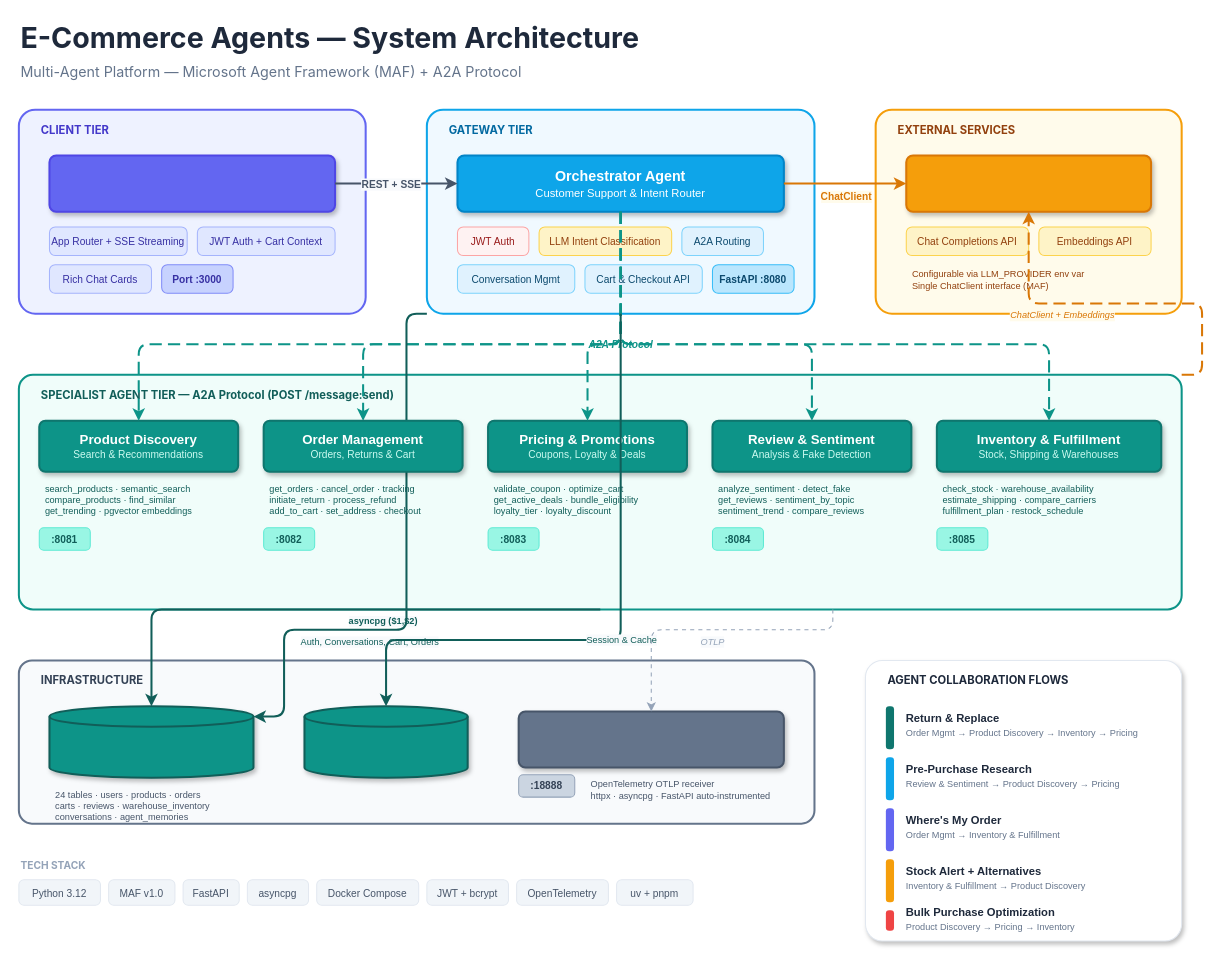
Image size: 1228x966. Some labels were removed from this diagram. The centre of each missing label's shape, as x and y in pixels:
".NET Aspire Dashboard Traces · Logs · Metrics" goes at (651,740).
"Next.js 15 Frontend React 19 + Tailwind CSS 4 + shadcn/ui" goes at (193,184).
"OpenAI / Azure OpenAI GPT-4.1 + text-embedding-3-small" goes at (1029,184).
"PostgreSQL 16 + pgvector (1536-dim embeddings)" goes at (152,743).
"Redis 7 Session & Cache" goes at (386,743).
